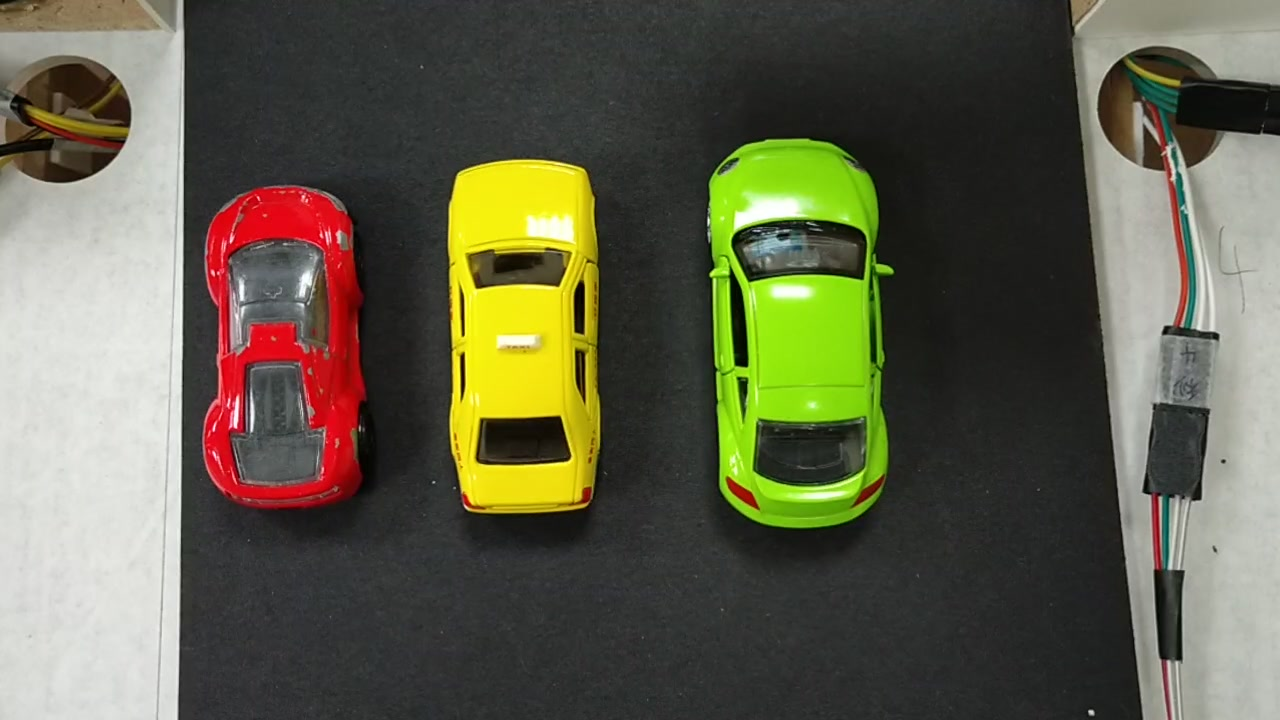car: (712, 148, 896, 524), (448, 160, 602, 517), (215, 192, 359, 506)
